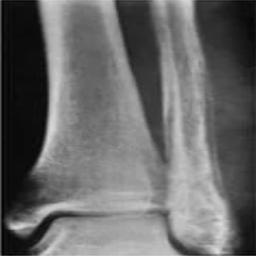cancer: (161, 47, 238, 256)
